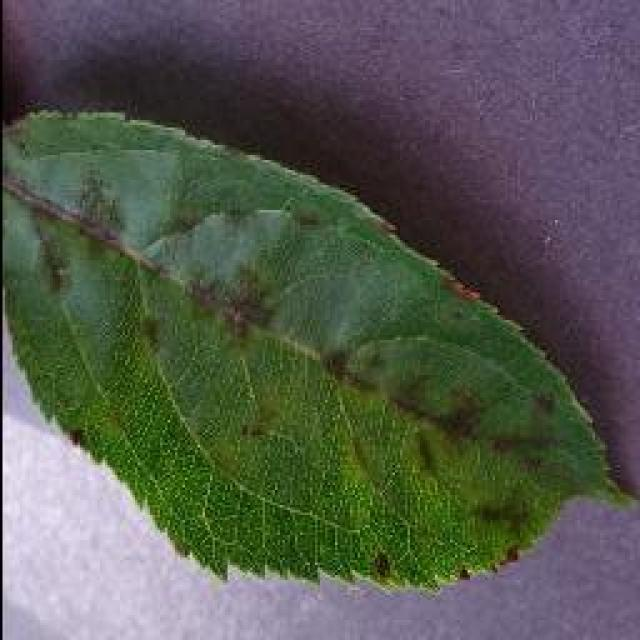apple scab disease: (0, 102, 638, 598)
